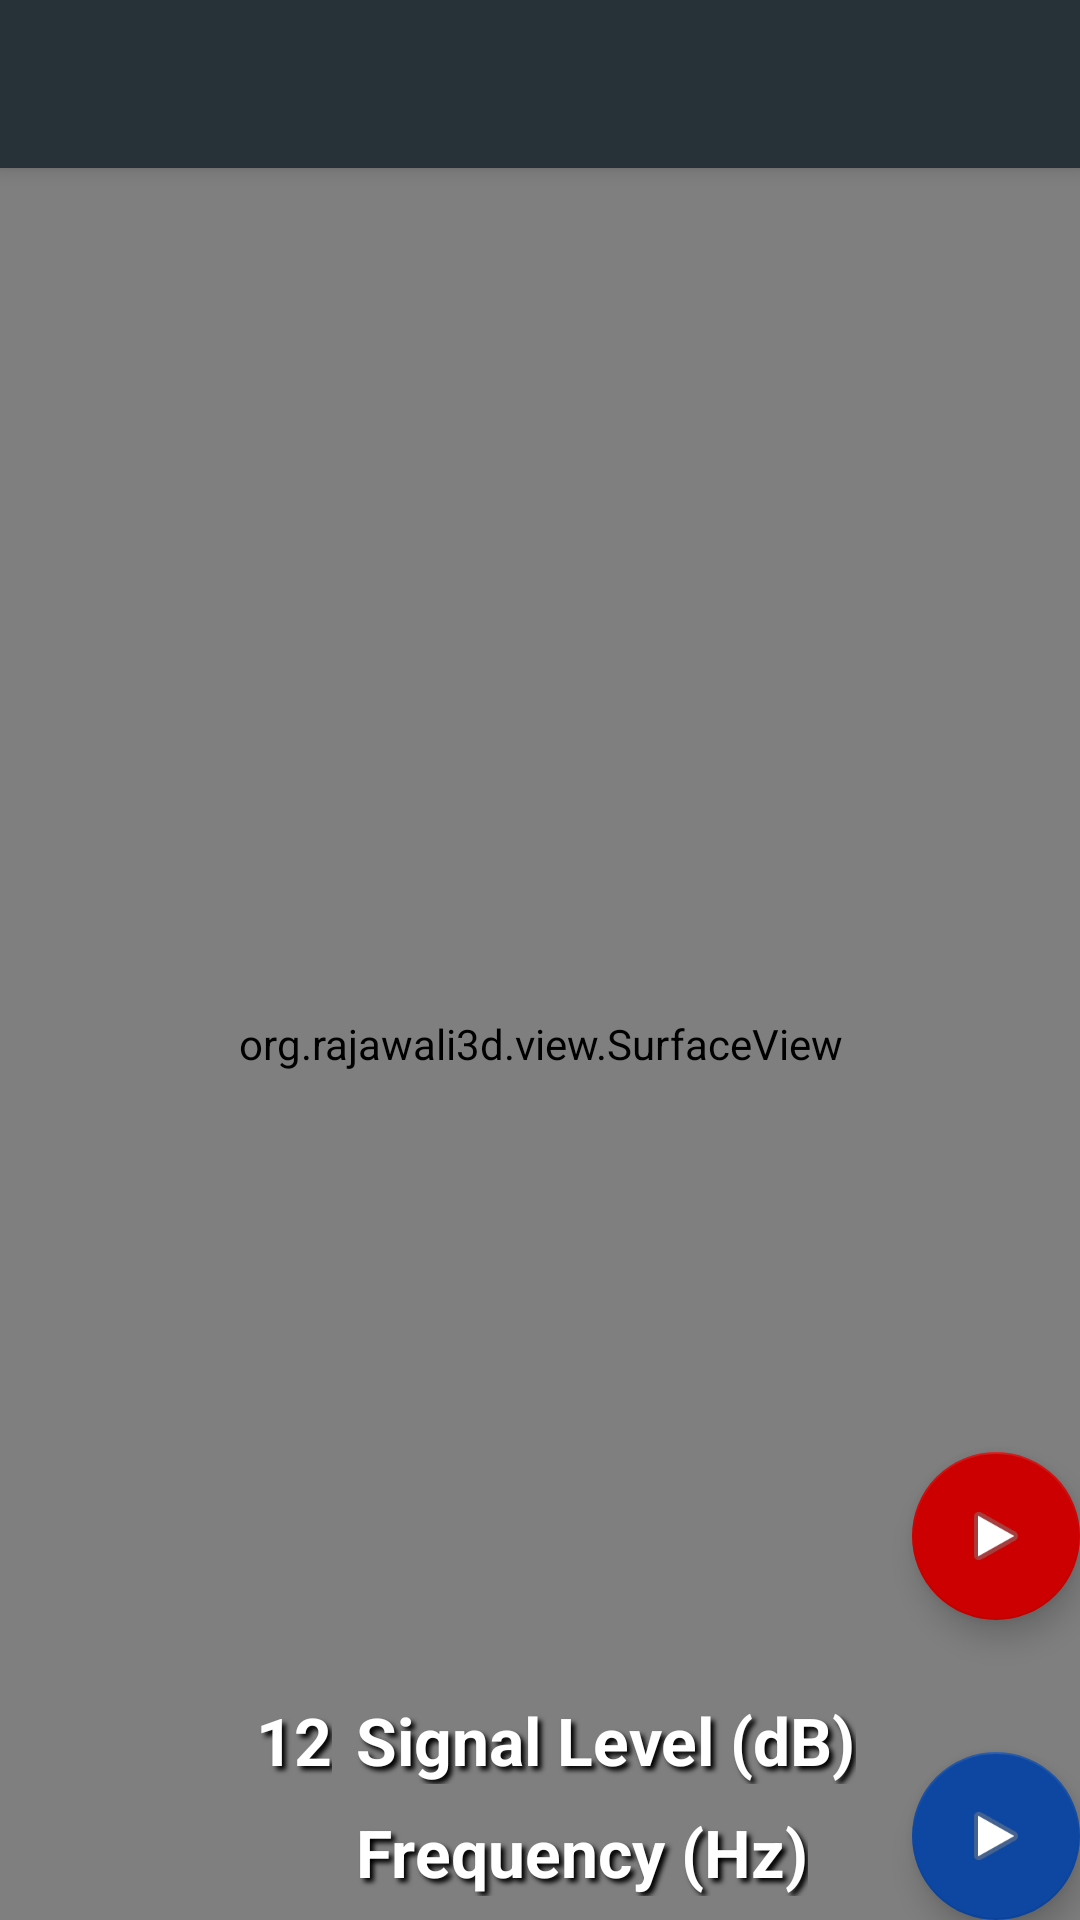

Screen size 1080 × 1920. Icon name, then its box in pixels as (x1, y1, x2, y2):
play: (912, 1452, 1080, 1620), (912, 1752, 1080, 1920)
